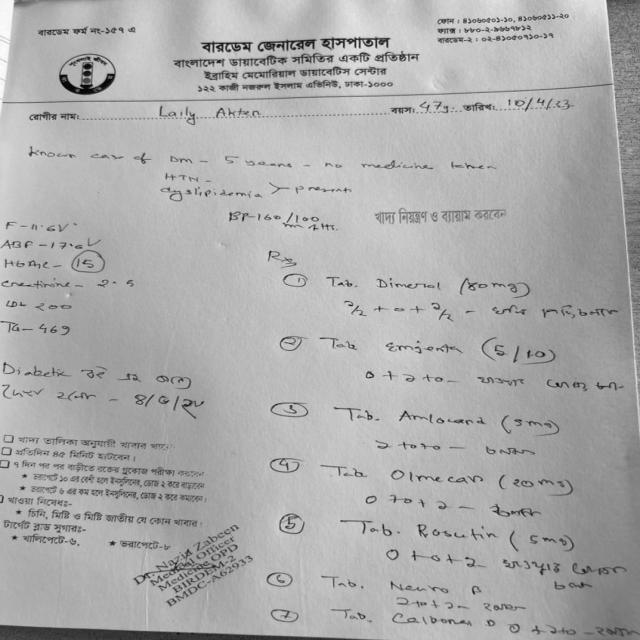medicine: (386, 608, 501, 635), (382, 464, 495, 490), (392, 404, 495, 432), (406, 520, 508, 548), (381, 576, 492, 600), (376, 336, 469, 358), (371, 274, 450, 294)
